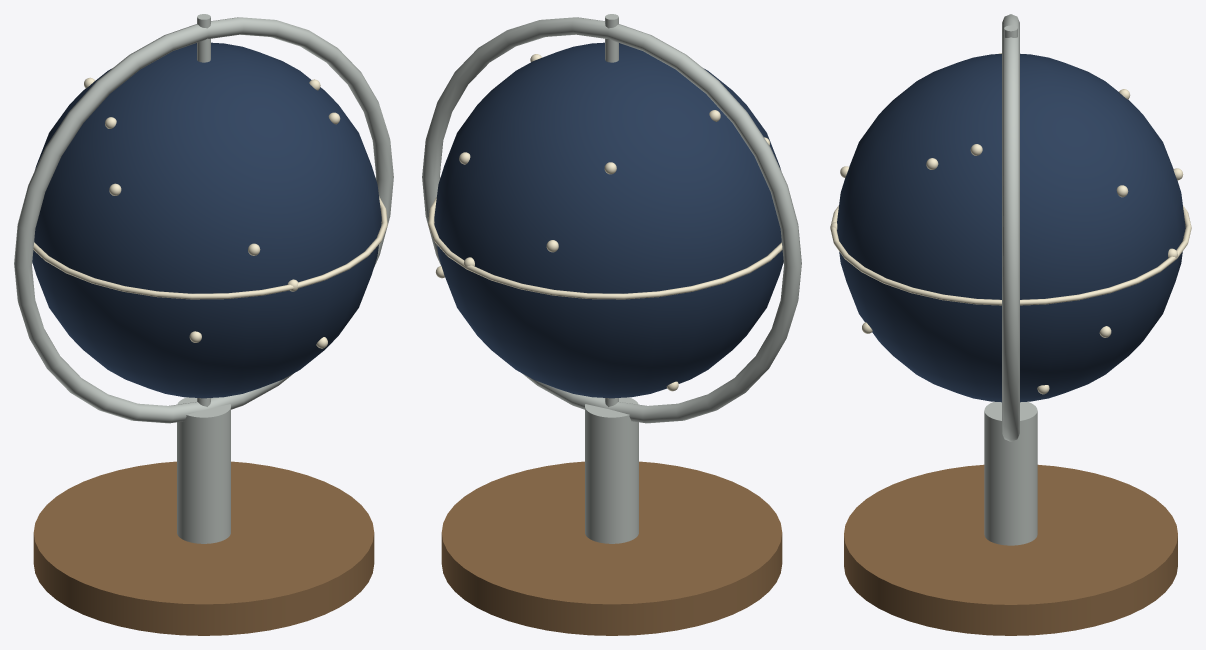
Rendered from planetarium-and-optical-observatory-celestial-globe-f3c6a76c__31839.glb.
3 views of the same model, side by side, from view 1: azimuth 30°, elevation 25°; view 2: azimuth 150°, elevation 25°; view 3: azimuth 270°, elevation 25° (orthographic).
Parts seen in each view (by area): view 1: celestial-globe; view 2: celestial-globe; view 3: celestial-globe.
Part boxes in pixels (x1=…): celestial-globe: x1=14, y1=14, x2=393, y2=635; celestial-globe: x1=422, y1=14, x2=801, y2=635; celestial-globe: x1=830, y1=14, x2=1191, y2=635.
Bounding box in the file's own units: 0.564 × 0.78 × 0.476.
